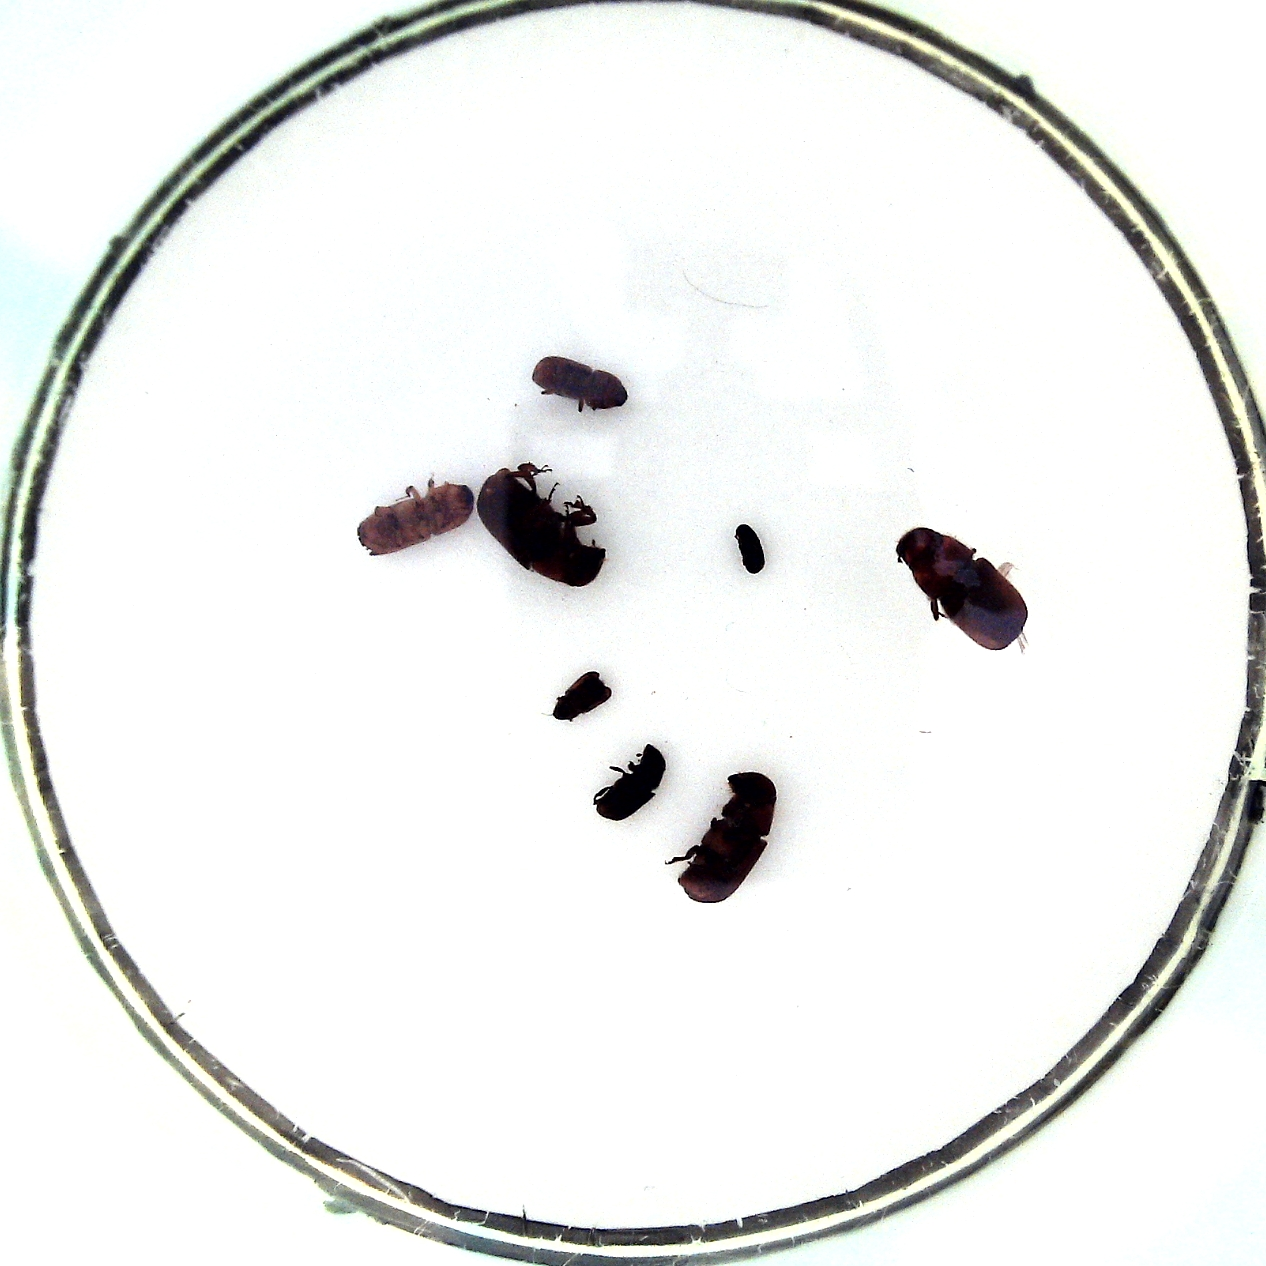Boerner: (358, 483, 475, 556)
Leconte: (896, 527, 1028, 652), (476, 467, 606, 589), (678, 772, 778, 903)
acuminatus: (734, 524, 765, 573)
armandi: (592, 744, 665, 821)
coleoptera: (554, 672, 611, 721)
linnaeus: (533, 356, 630, 412)
